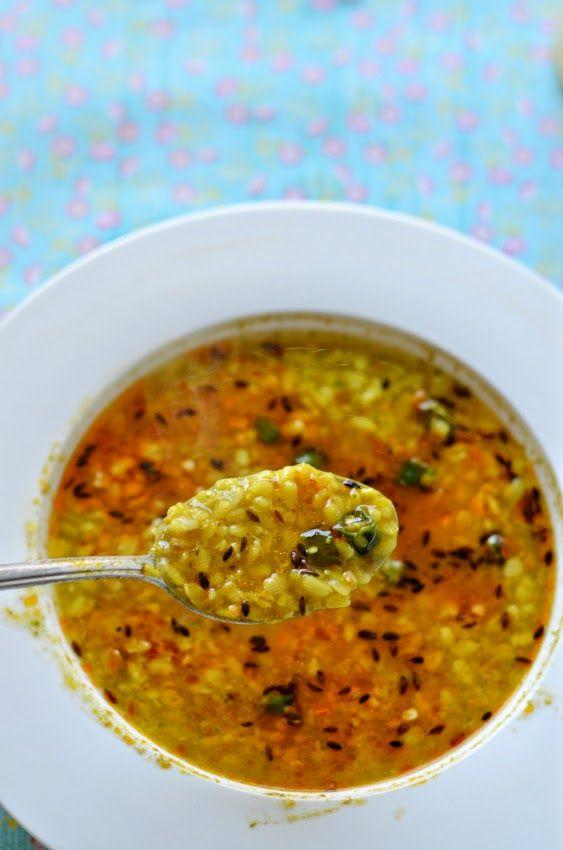daal: (73, 353, 563, 794)
